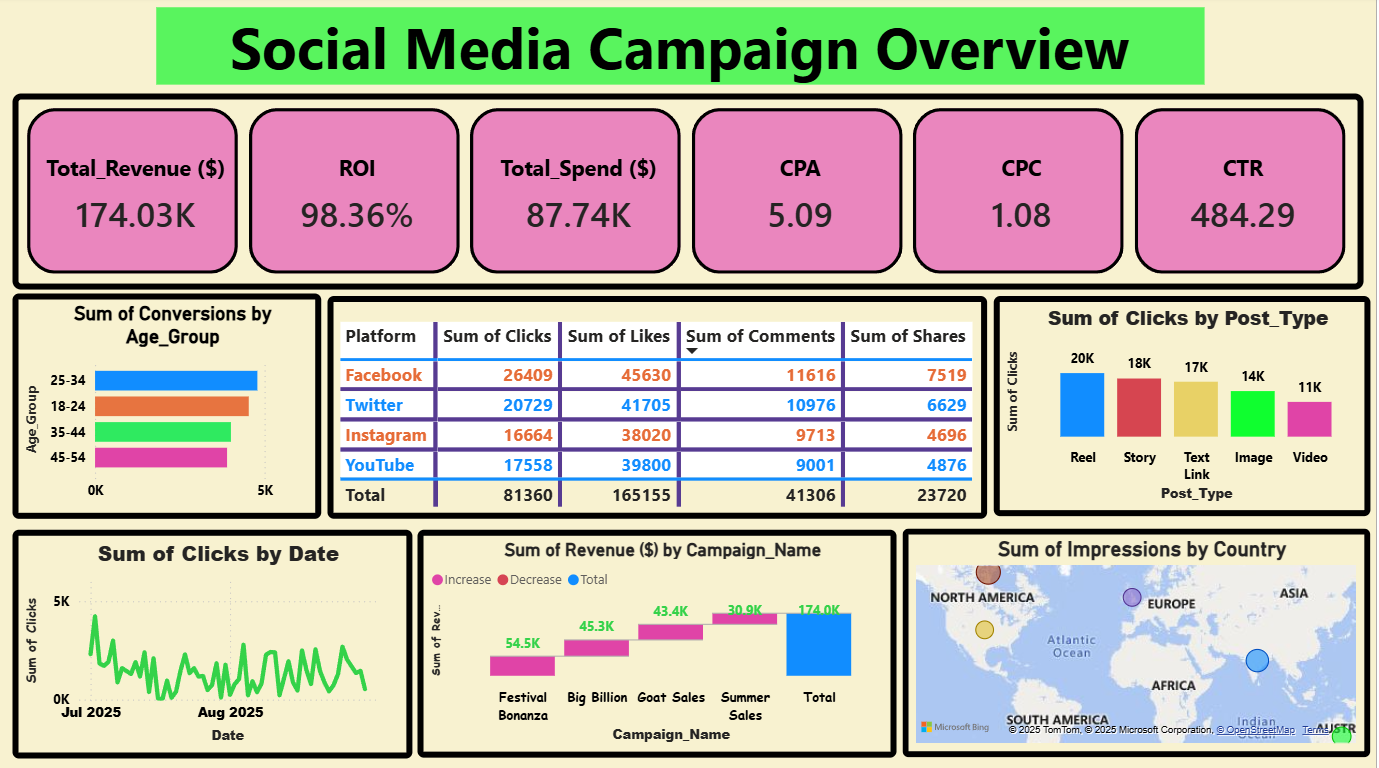

Layout of this report page (visuals, bound fields, positions):
{"tool":"powerbi","page":{"name":"Page 1","canvas":[1280,720],"ordinal":0},"visuals":[{"type":"cardVisual","fields":{"Data":["Socia_Media_Campaign.Total_Revenue","Socia_Media_Campaign.ROI","Socia_Media_Campaign.Total_Spend","Socia_Media_Campaign.CPA","Socia_Media_Campaign.CPC","Socia_Media_Campaign.CTR"]},"box":[11.6,90.7,1257,182.6],"z":0},{"type":"tableEx","fields":{"Values":["Socia_Media_Campaign.Platform","Sum(Socia_Media_Campaign.Clicks)","Sum(Socia_Media_Campaign.Likes)","Sum(Socia_Media_Campaign.Comments)","Sum(Socia_Media_Campaign.Shares)"]},"box":[305,279,614,207],"z":1000},{"type":"map","fields":{"Category":["Socia_Media_Campaign.Country"],"Size":["Sum(Socia_Media_Campaign.Impressions)"]},"box":[839.5,495.4,434.9,212.8],"z":2000},{"type":"clusteredBarChart","fields":{"Category":["Socia_Media_Campaign.Age_Group"],"Y":["Sum(Socia_Media_Campaign.Conversions)"]},"box":[11.6,277,287.2,209.3],"z":3000},{"type":"lineChart","fields":{"Y":["Sum(Socia_Media_Campaign.Clicks)"],"Category":["Socia_Media_Campaign.Date"]},"box":[11.6,496.5,372.1,212.8],"z":4000},{"type":"clusteredColumnChart","fields":{"Category":["Socia_Media_Campaign.Post_Type"],"Y":["Sum(Socia_Media_Campaign.Clicks)"]},"box":[924.4,279,350,204.7],"z":5000},{"type":"waterfallChart","fields":{"Y":["Sum(Socia_Media_Campaign.Revenue ($))"],"Category":["Socia_Media_Campaign.Campaign_Name"]},"box":[388.4,496.5,445.4,211.6],"z":6000},{"type":"textbox","box":[145,10,975,72],"z":7000}]}

Visuals, with their boxes in screenshot pixels (x1, y1, x2, y2), scaled from the page's 1280x720 canvas onto the 1379x768 screenshot:
cardVisual - Socia_Media_Campaign.Total_Revenue x Socia_Media_Campaign.ROI: <bbox>12, 97, 1367, 292</bbox>
tableEx - Socia_Media_Campaign.Platform x Sum(Socia_Media_Campaign.Clicks): <bbox>329, 298, 990, 518</bbox>
map - Socia_Media_Campaign.Country x Sum(Socia_Media_Campaign.Impressions): <bbox>904, 528, 1373, 755</bbox>
clusteredBarChart - Socia_Media_Campaign.Age_Group x Sum(Socia_Media_Campaign.Conversions): <bbox>12, 295, 322, 519</bbox>
lineChart - Sum(Socia_Media_Campaign.Clicks) x Socia_Media_Campaign.Date: <bbox>12, 530, 413, 757</bbox>
clusteredColumnChart - Socia_Media_Campaign.Post_Type x Sum(Socia_Media_Campaign.Clicks): <bbox>996, 298, 1373, 516</bbox>
waterfallChart - Sum(Socia_Media_Campaign.Revenue ($)) x Socia_Media_Campaign.Campaign_Name: <bbox>418, 530, 898, 755</bbox>
textbox: <bbox>156, 11, 1207, 87</bbox>
